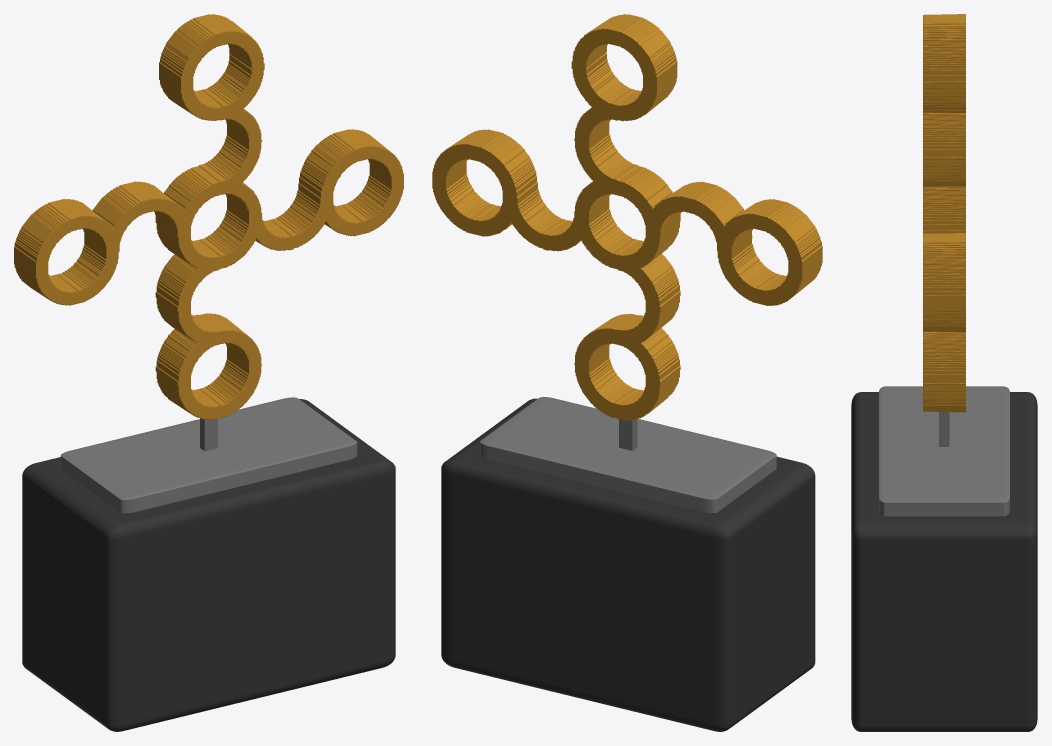
File: premio-amarillo.glb
3 renders of one model, left to right at view 1: azimuth 30°, elevation 25°; view 2: azimuth 150°, elevation 25°; view 3: azimuth 270°, elevation 25°, orthographic.
Visible parts, largest first — view 1: Base, icono, Base2; view 2: Base, icono, Base2; view 3: Base, icono, Base2, columna.
Boxes of the visible parts, box(x1,y1,x2,y2) form: Base: box(22, 399, 395, 731); icono: box(14, 14, 403, 420); Base2: box(60, 397, 357, 513); Base: box(441, 398, 815, 731); icono: box(432, 14, 822, 420); Base2: box(480, 397, 776, 512); Base: box(851, 392, 1037, 731); icono: box(923, 14, 965, 412); Base2: box(879, 386, 1009, 516); columna: box(939, 412, 949, 446).
Bounding box in the file's own units: 2.98 × 4.96 × 1.29.
